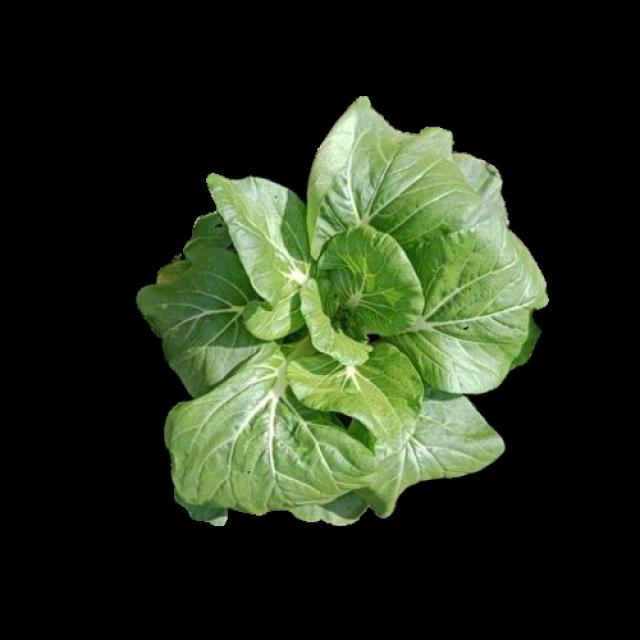mature: (134, 99, 550, 528)
unhealthy: (394, 209, 548, 393), (140, 251, 264, 385), (208, 168, 314, 298)
